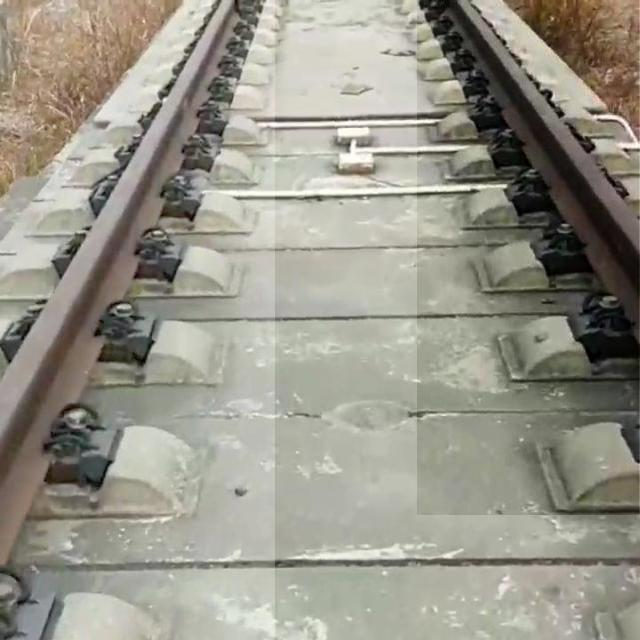rail: (1, 1, 276, 640), (419, 1, 640, 514)
